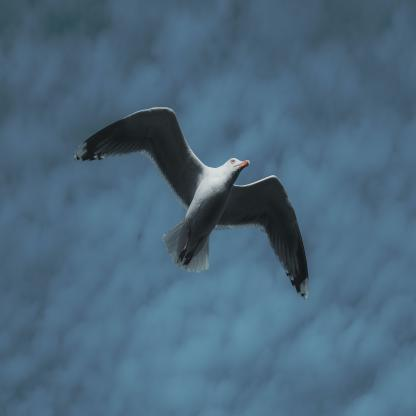bird: (76, 106, 310, 300)
